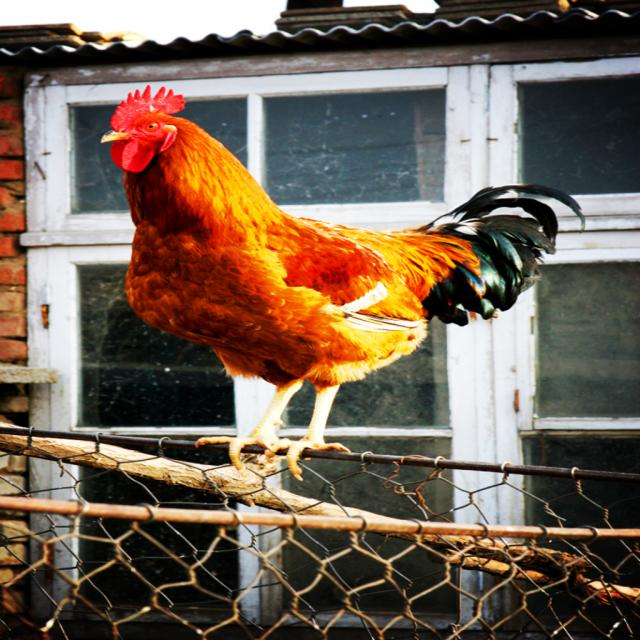Chicken: (100, 82, 577, 473)
